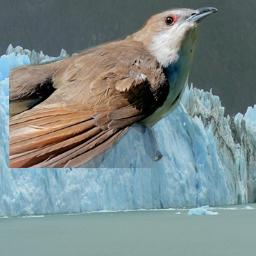Cuckoo: (9, 7, 218, 168)
